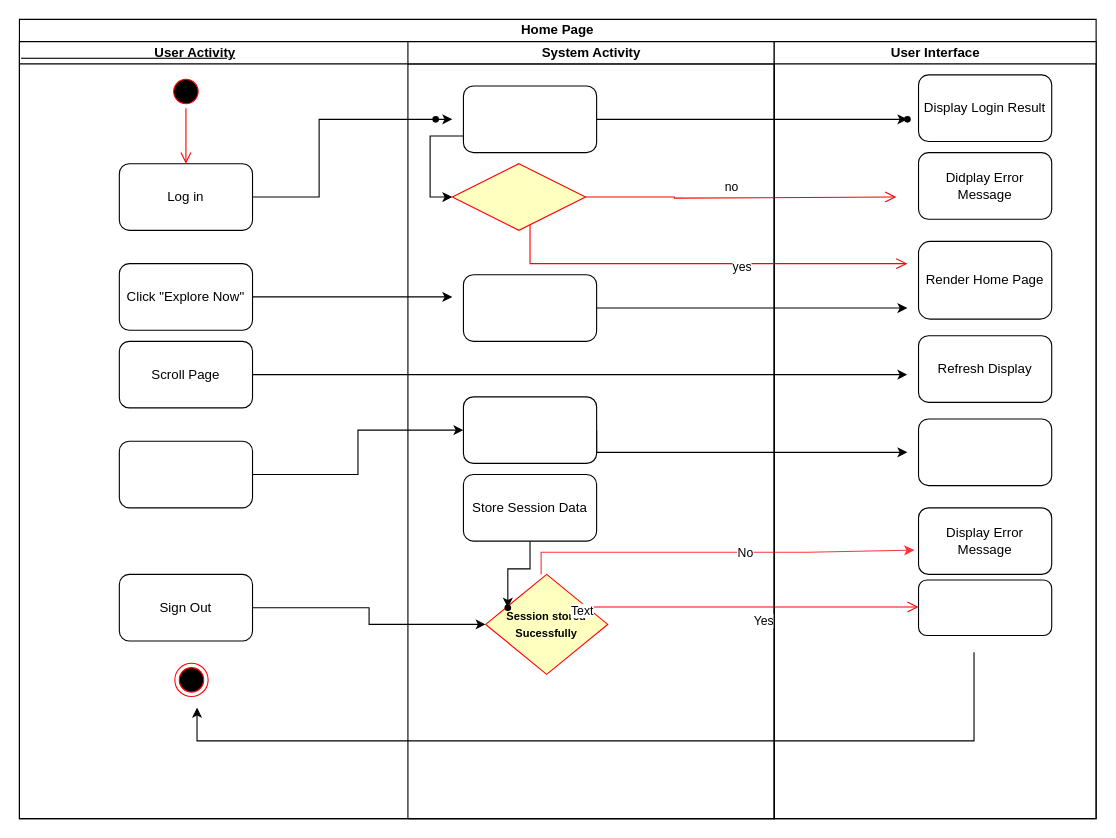
The diagram is 1116 pixels wide and 838 high, and some of its shapes have lost their labels. The shapes that lost their labels are listed below. From the top down, each one's centre as x and y in pixels, then its label:
point (529, 119): Validte Credentials
point (518, 196): Log in Credentials Valid
point (529, 307): Fetch Data
point (529, 429): Process Selection
point (984, 452): Highlight selected item
point (185, 474): Select an Option
point (984, 607): Display Logout Message
